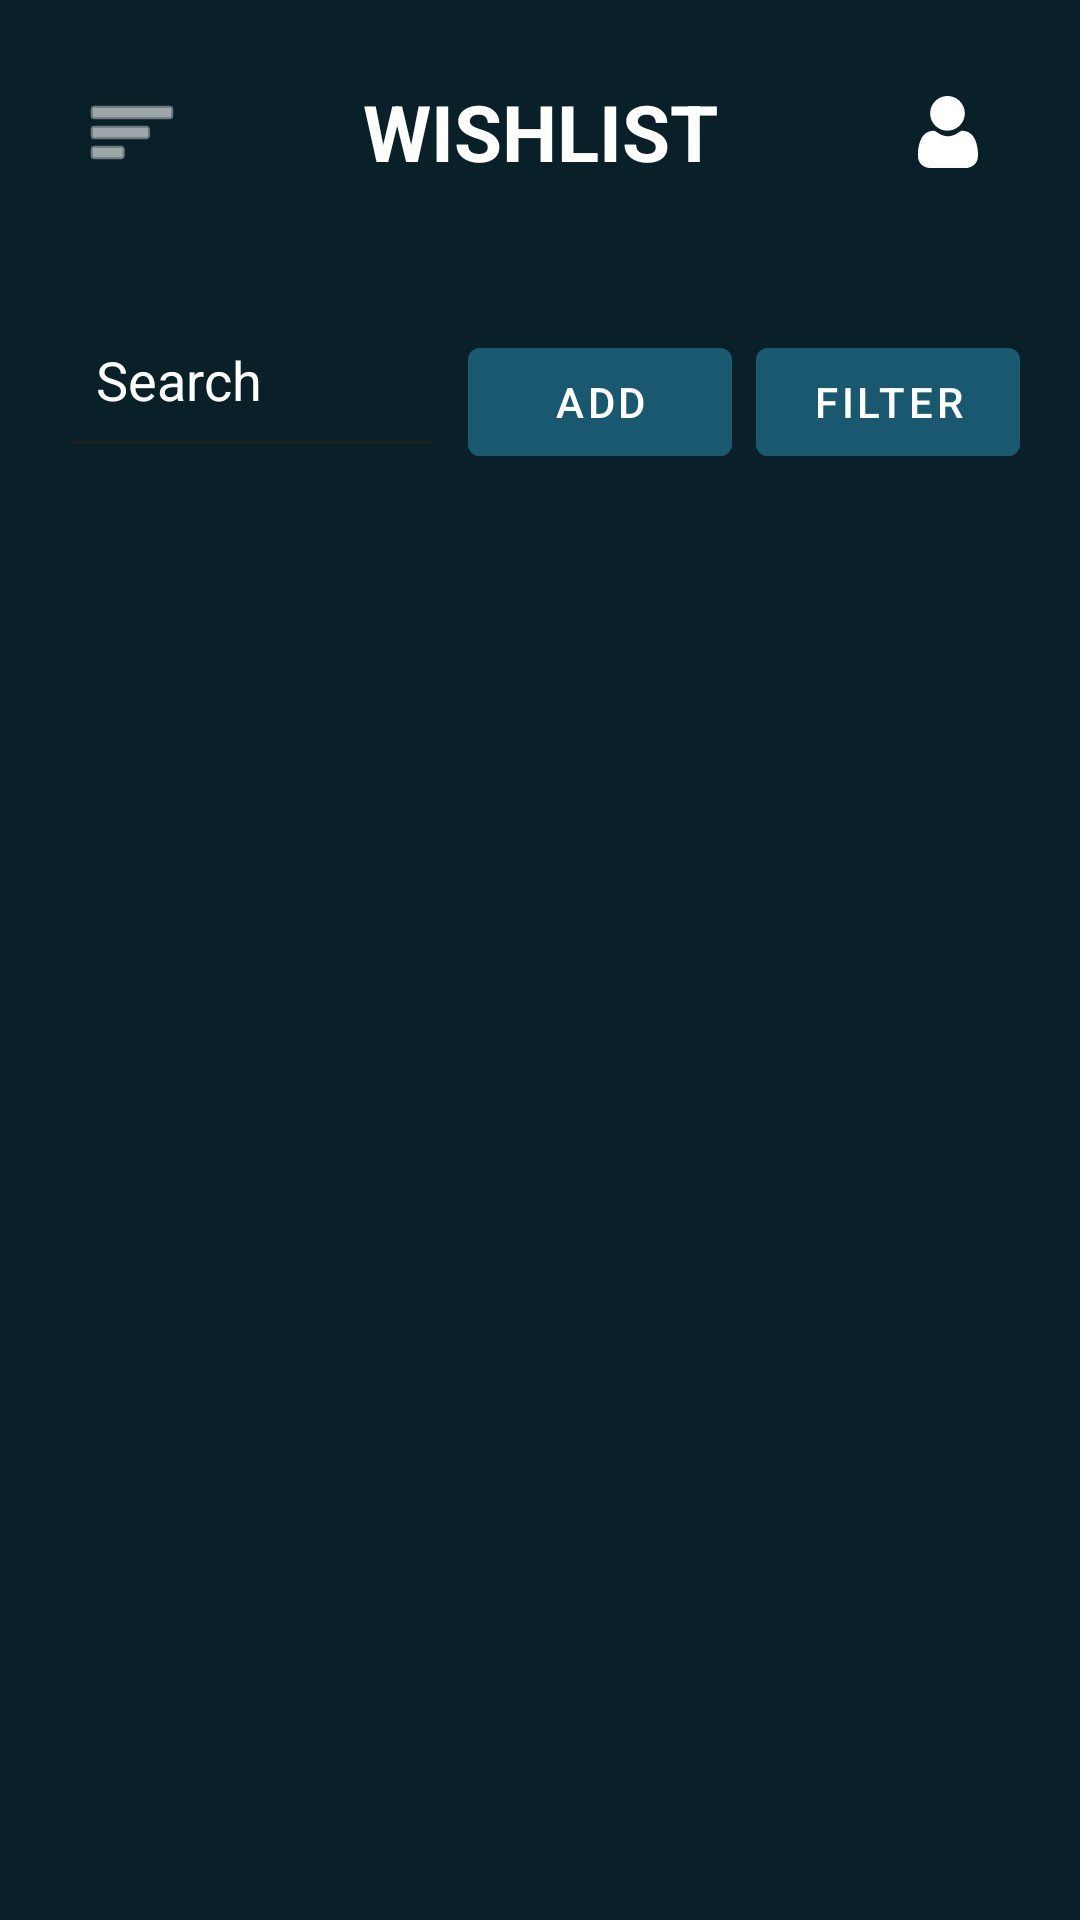

Where to tap for icons on this 1080 × 1920 app screen, as (x=x, y=y):
Open menu: (x=132, y=132)
Open user profile: (x=948, y=132)
